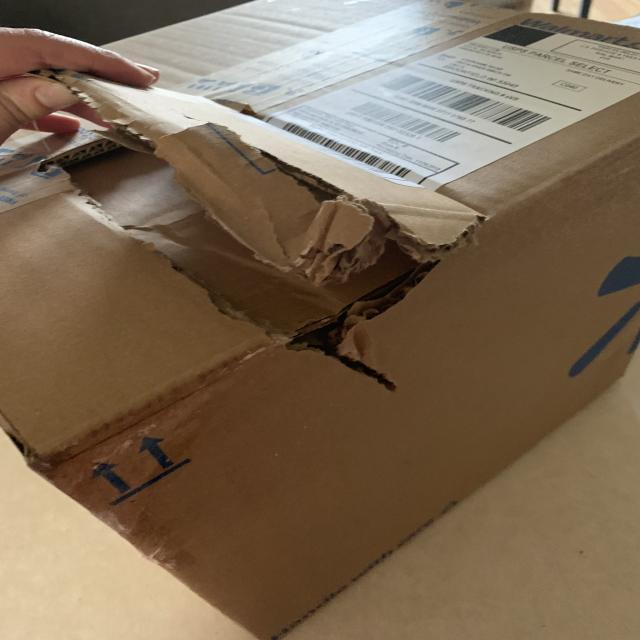hole: (81, 138, 451, 348)
